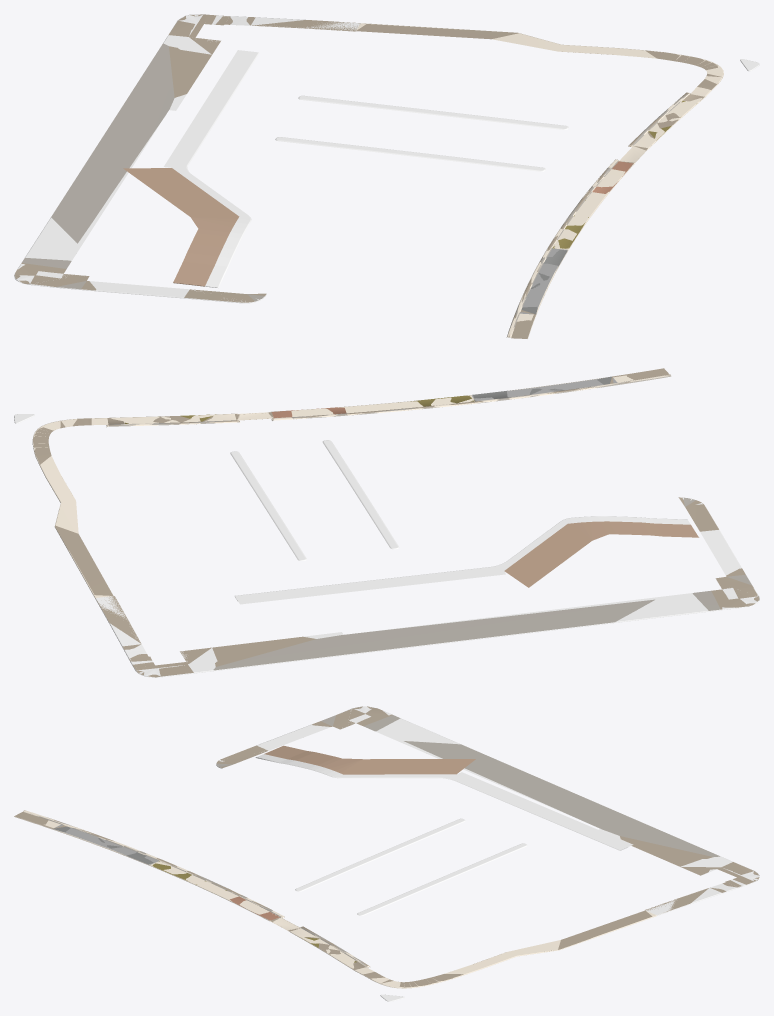
Rendered from sidewalk_mall.dae.
The picture shows the model from 3 angles, top to bottom: view 1: azimuth 30°, elevation 25°; view 2: azimuth 150°, elevation 25°; view 3: azimuth 270°, elevation 25°; orthographic projection. The views are drawn at different scales.
Parts seen in each view (by area): view 1: sidewalk_mall_a3000, sidewalk_mall_a2000; view 2: sidewalk_mall_a3000, sidewalk_mall_a2000; view 3: sidewalk_mall_a3000, sidewalk_mall_a2000.
Part boxes in pixels (bbox=[...]): sidewalk_mall_a3000: bbox=[14, 14, 759, 338]; sidewalk_mall_a2000: bbox=[14, 14, 722, 338]; sidewalk_mall_a3000: bbox=[14, 374, 759, 677]; sidewalk_mall_a2000: bbox=[33, 368, 759, 677]; sidewalk_mall_a3000: bbox=[14, 706, 759, 1001]; sidewalk_mall_a2000: bbox=[14, 706, 759, 987].
Bounding box in the file's own units: 178 × 179 × 5.97.
